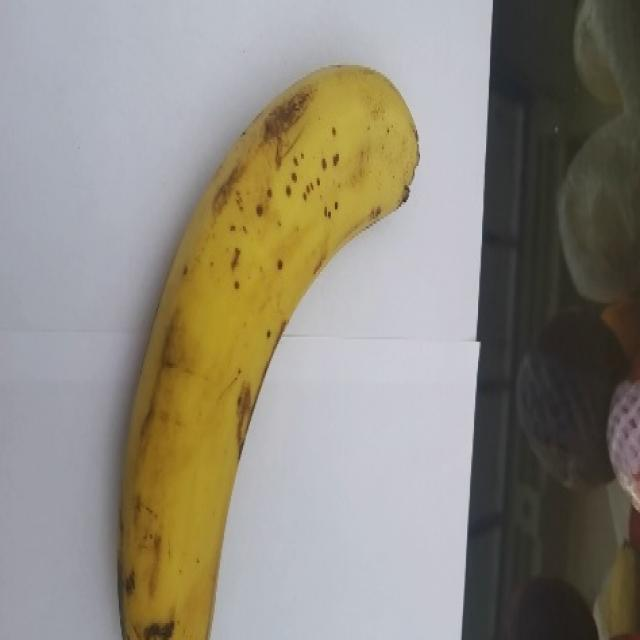Banana: (116, 62, 420, 638)
